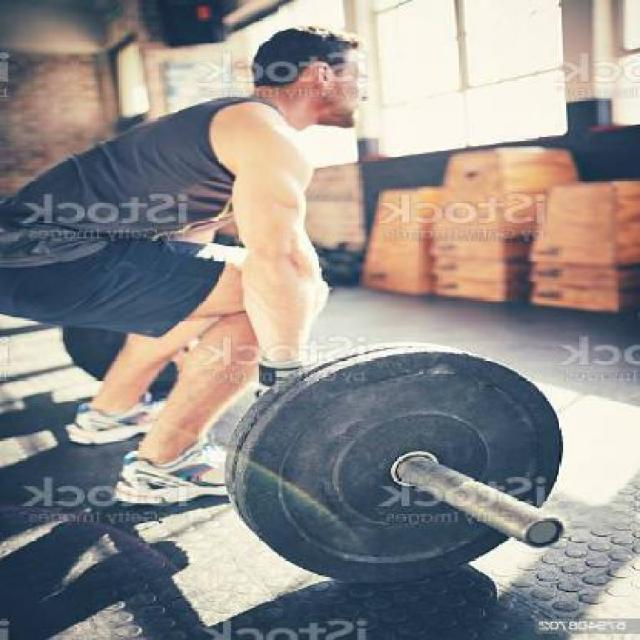Barbell: (516, 510, 567, 552)
